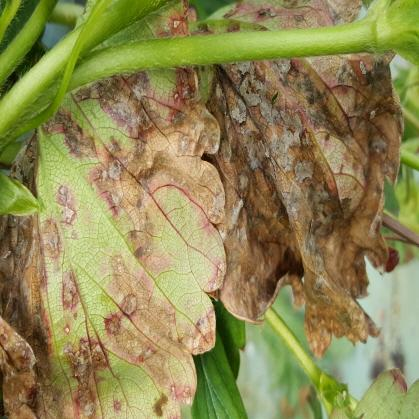Angular Leafspot: (0, 0, 228, 418), (191, 0, 405, 362), (0, 318, 39, 418)
